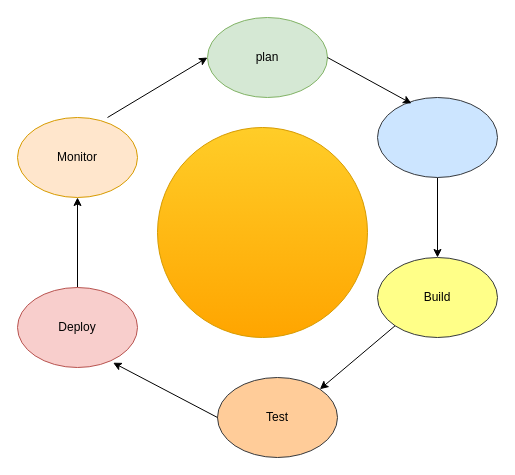
This 515x475 diagram has some shape labels left out. The centre of each missing label's shape, as x and y in pixels:
"Develop" goes at point (437, 137).
"Devops Life Cycle" goes at point (262, 232).
